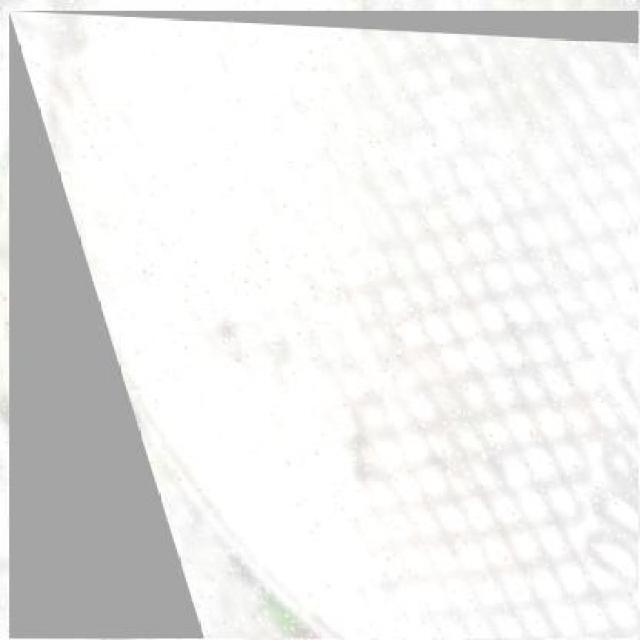Manhole: (9, 11, 638, 638)
